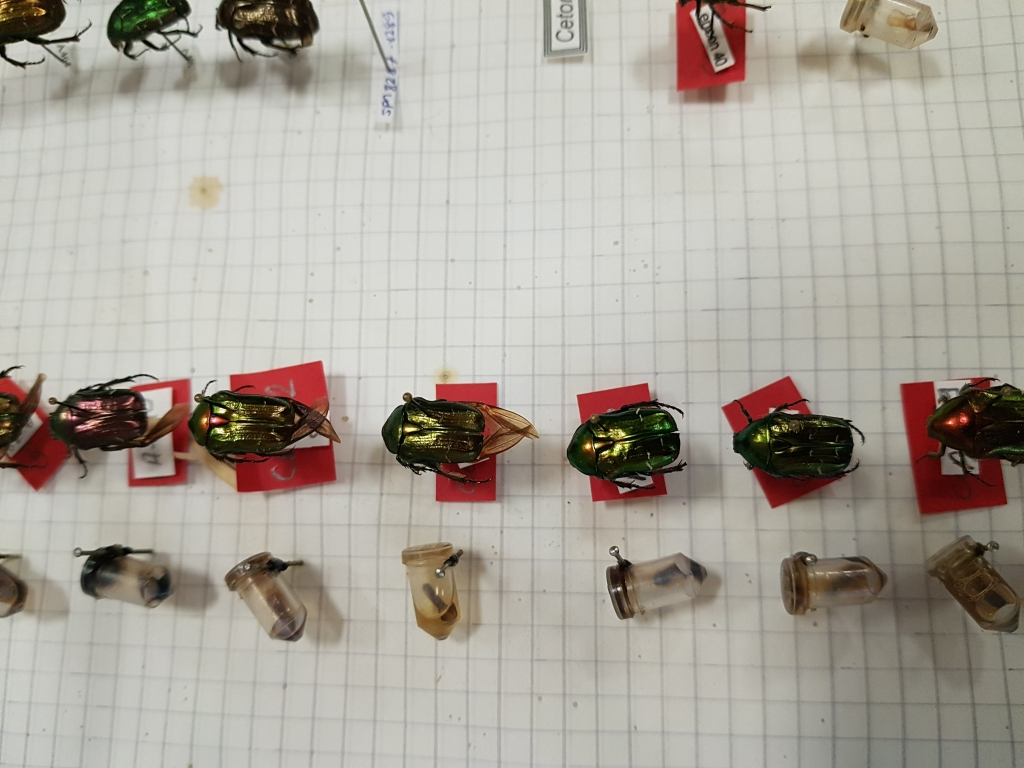Cetonia_kemali: (375, 397, 535, 486), (182, 381, 345, 468), (561, 397, 698, 494)
